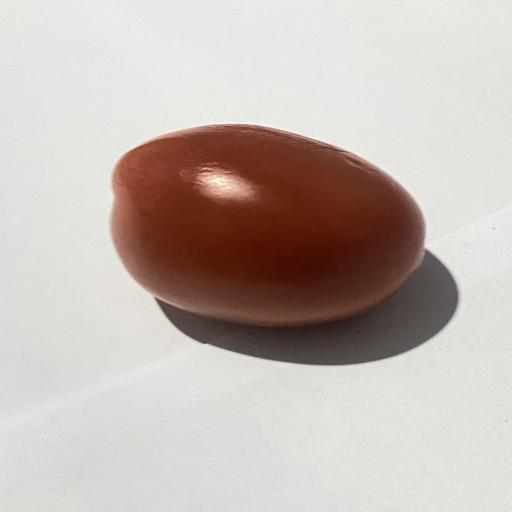spoiled: (111, 124, 425, 326)
